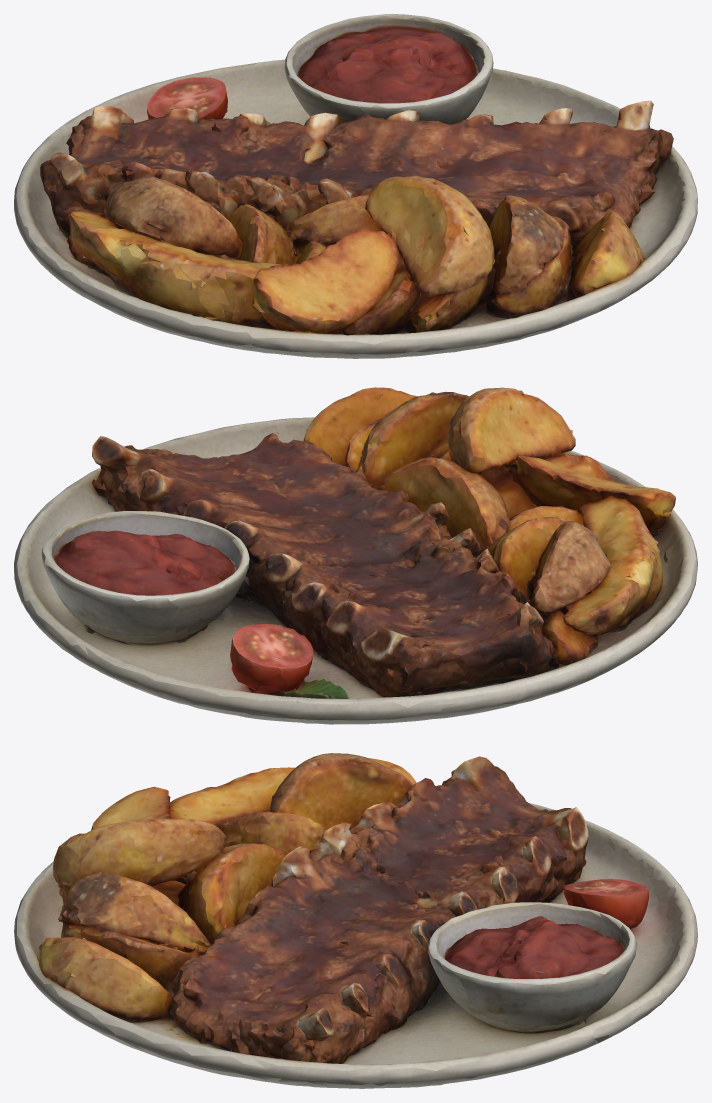
Rendered from meat.glb.
3 views of the same model, one above another, from view 1: azimuth 30°, elevation 25°; view 2: azimuth 150°, elevation 25°; view 3: azimuth 270°, elevation 25° (orthographic).
Parts seen in each view (by area): view 1: default1; view 2: default1; view 3: default1.
Part boxes in pixels (left/top/right/bottom): default1: left=14, top=14, right=697, bottom=358; default1: left=14, top=387, right=697, bottom=724; default1: left=14, top=753, right=697, bottom=1088.
Size of the model in its own units: 0.2729 by 0.0613 by 0.2729.
Materials: 1 (1 with a texture image).
